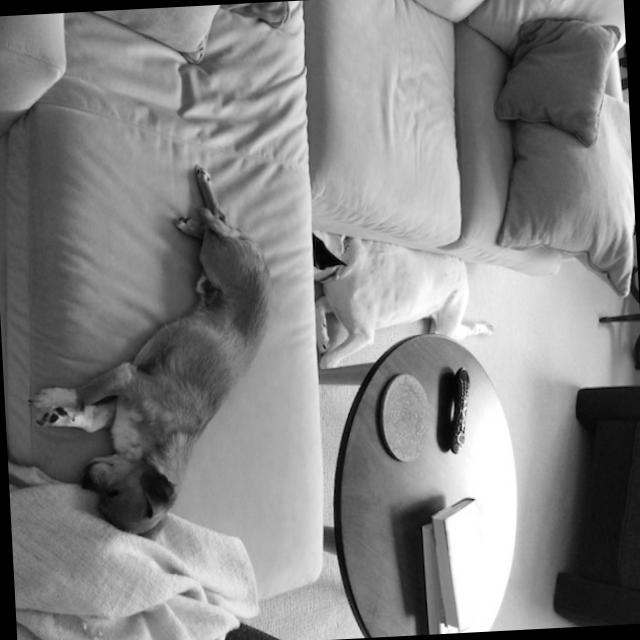laying down: (19, 161, 286, 544), (303, 220, 497, 380)
